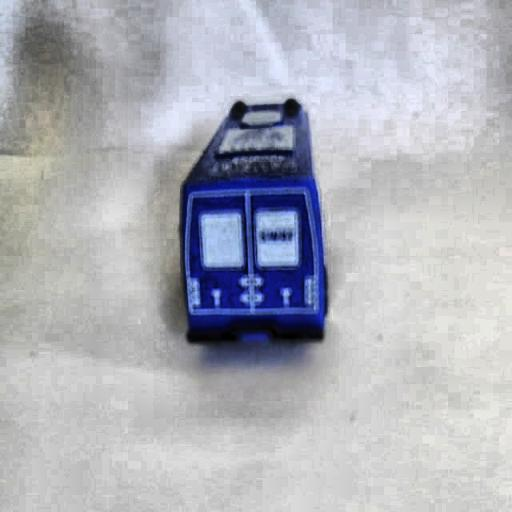police car: (178, 99, 333, 353)
